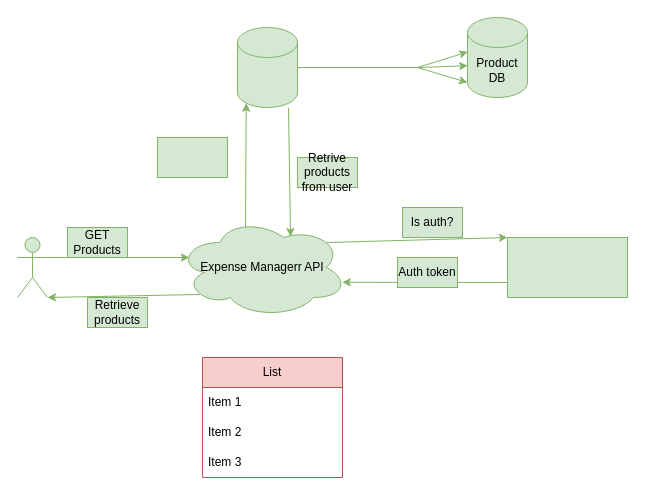
Some shapes in this 645 by 495 pixel diagram are drawn without their labels. The shapes that lost their labels are listed below. From the top down, each one's box as (x1, y1, x2, y2) in pixels, then its label:
(236, 26, 298, 108): User DB
(156, 136, 228, 178): Get products from DB
(16, 236, 48, 298): User
(506, 236, 628, 298): Auth manager
